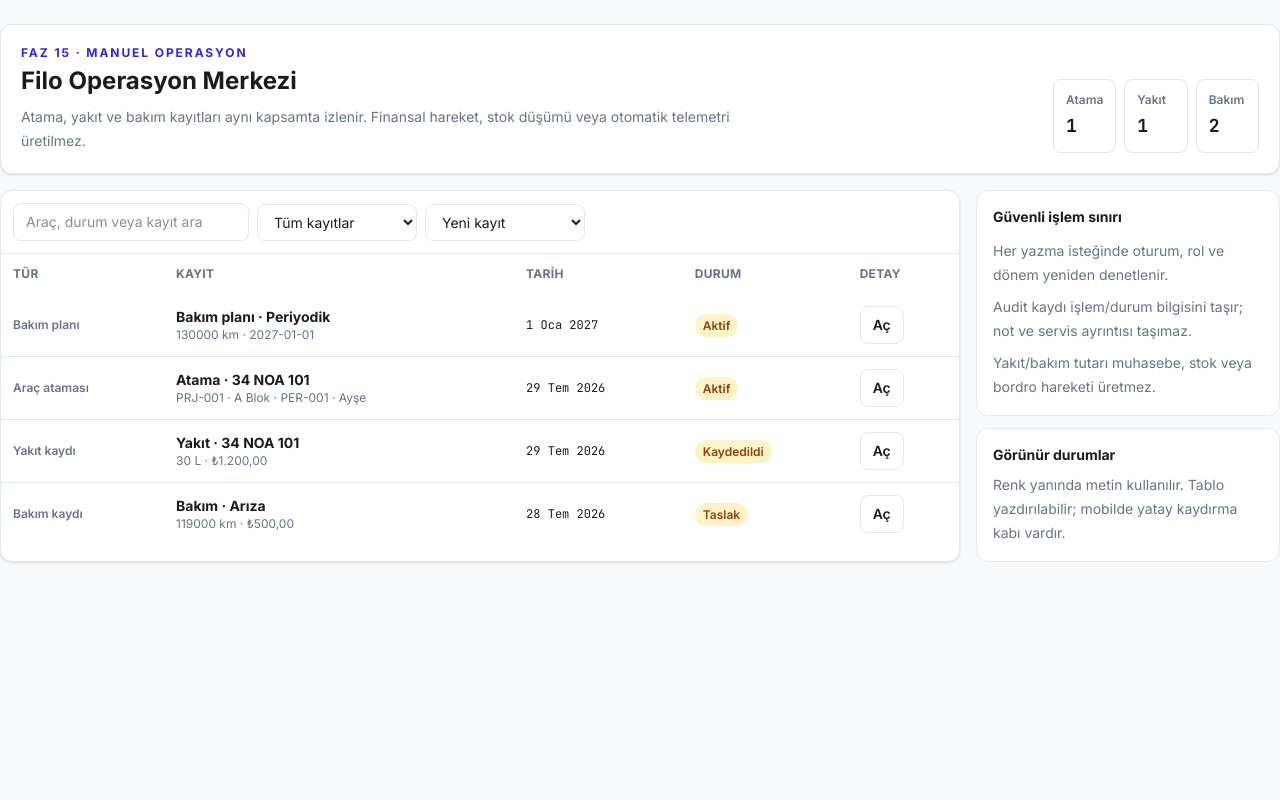
Test: VehicleFleetOperationsSurface › opens a labelled maintenance plan form
Select "Bakım planı" in the dropdown named "Yeni filo kayıt türü" at [505, 222], box [425,204,585,240]
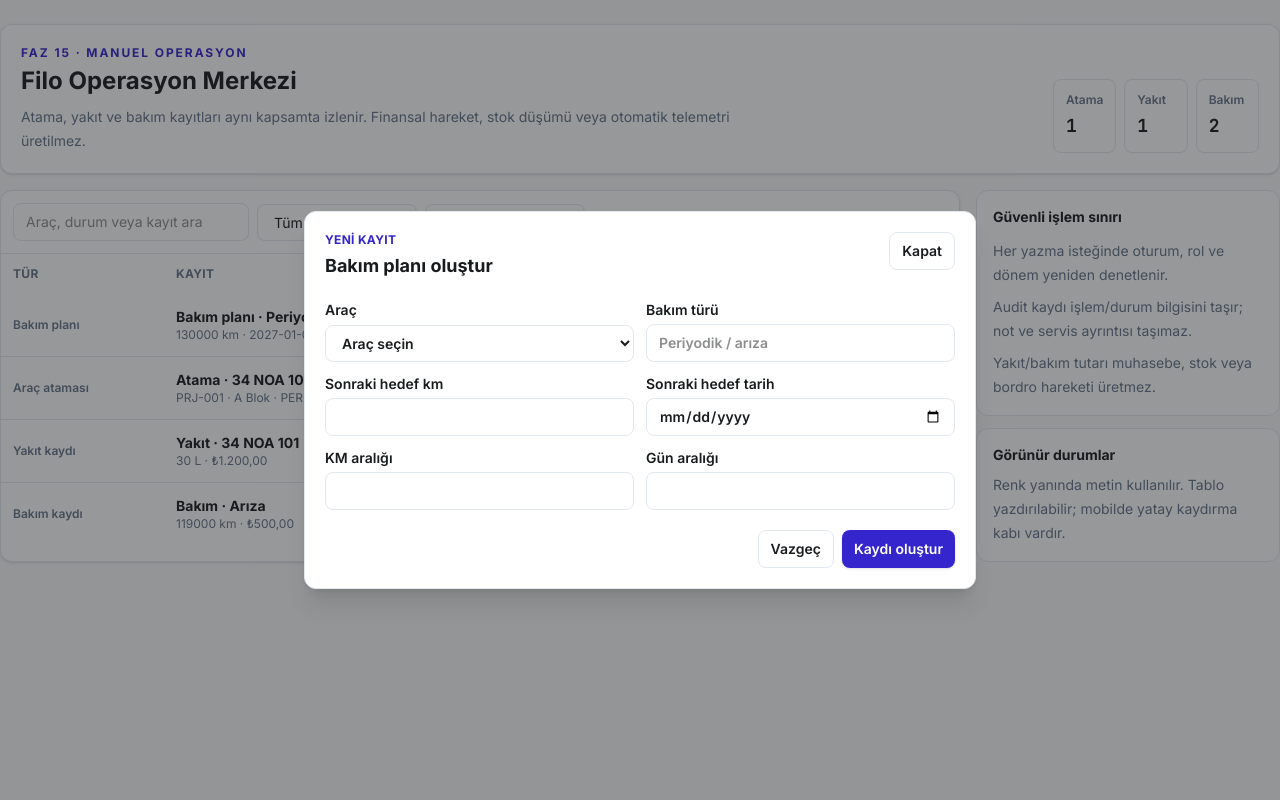
Result: the dialog is shown
Result: the heading "Bakım planı oluştur" is shown at [325,252,493,280]
Result: the number field labelled "Sonraki hedef km" is shown at [325,398,634,436]
